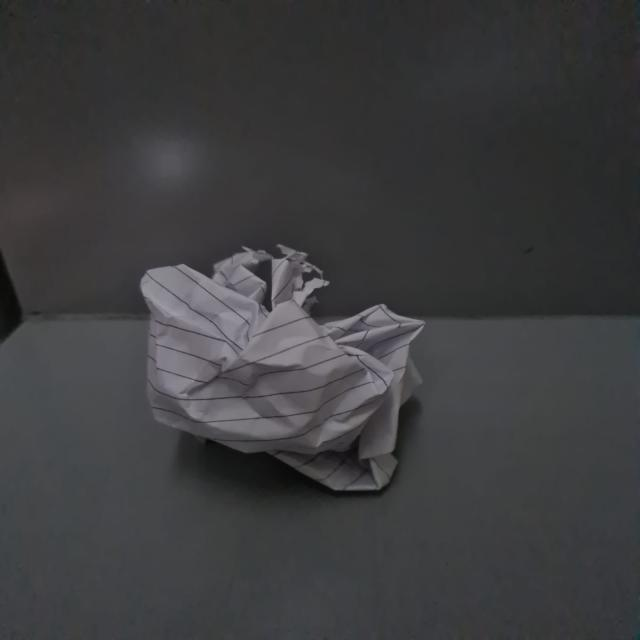Paper: (142, 251, 429, 492)
